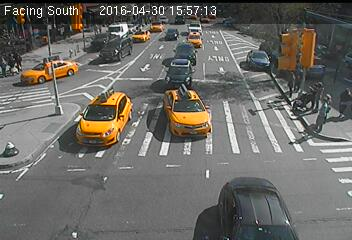neg: (272, 159, 302, 199), (52, 79, 75, 109), (220, 93, 237, 115), (242, 131, 259, 153), (143, 78, 158, 97), (87, 90, 101, 107), (129, 35, 142, 52), (178, 51, 189, 66), (205, 34, 215, 48)
pos: (311, 90, 343, 133), (302, 76, 330, 113), (279, 66, 303, 98), (331, 85, 351, 117), (9, 51, 25, 72), (2, 51, 18, 72)
